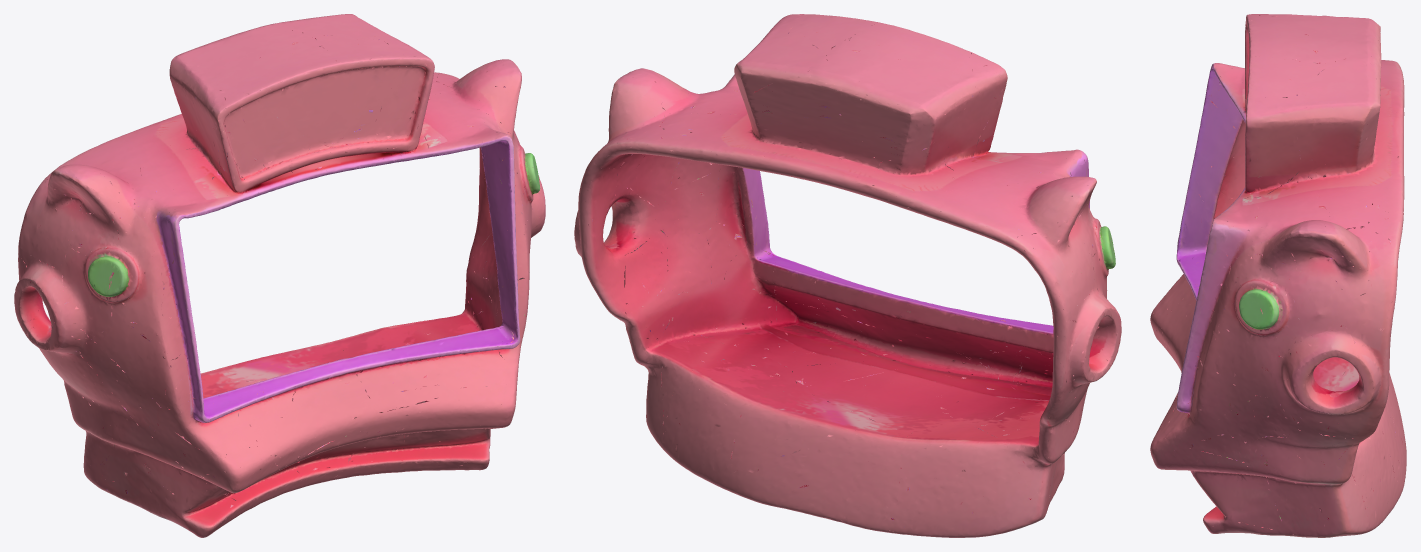
Rendered from slotmachine.glb.
3 renders of one model, left to right at view 1: azimuth 30°, elevation 25°; view 2: azimuth 150°, elevation 25°; view 3: azimuth 270°, elevation 25°, orthographic. The views are drawn at different scales.
Parts seen in each view (by area): view 1: origin, Mesh_0_cell.087, Mesh_0_cell.039, Mesh_0_cell.053, Mesh_0_cell.055, Mesh_0_cell.011, Mesh_0_cell.051, Mesh_0_cell.018, Mesh_0_cell.016, Mesh_0_cell.077, Mesh_0_cell.065, Mesh_0_cell.052 (+38 smaller); view 2: origin, Mesh_0_cell.069, Mesh_0_cell.002, Mesh_0_cell.086, Mesh_0_cell.056, Mesh_0_cell.074, Mesh_0_cell.057, Mesh_0_cell.049, Mesh_0_cell.065, Mesh_0_cell.082, Mesh_0_cell.027, Mesh_0_cell.004 (+32 smaller); view 3: origin, Mesh_0_cell.001, Mesh_0_cell.053, Mesh_0_cell.050, Mesh_0_cell.055, Mesh_0_cell.018, Mesh_0_cell.031, Mesh_0_cell.024, Mesh_0_cell.010, Mesh_0_cell.082, Mesh_0_cell.091, Mesh_0_cell.056 (+37 smaller).
Boxes of the visible parts, left/top/right/bottom form: origin: left=14, top=14, right=545, bottom=537; Mesh_0_cell.087: left=233, top=29, right=378, bottom=147; Mesh_0_cell.039: left=289, top=359, right=371, bottom=460; Mesh_0_cell.053: left=376, top=40, right=433, bottom=162; Mesh_0_cell.055: left=311, top=34, right=406, bottom=121; Mesh_0_cell.011: left=94, top=324, right=170, bottom=408; Mesh_0_cell.051: left=61, top=246, right=112, bottom=337; Mesh_0_cell.018: left=425, top=110, right=512, bottom=165; Mesh_0_cell.016: left=228, top=87, right=310, bottom=180; Mesh_0_cell.077: left=79, top=338, right=162, bottom=434; Mesh_0_cell.065: left=14, top=252, right=83, bottom=359; Mesh_0_cell.052: left=110, top=252, right=163, bottom=324; origin: left=574, top=14, right=1121, bottom=537; Mesh_0_cell.069: left=896, top=424, right=1048, bottom=537; Mesh_0_cell.002: left=821, top=63, right=975, bottom=161; Mesh_0_cell.086: left=725, top=428, right=912, bottom=532; Mesh_0_cell.056: left=663, top=354, right=796, bottom=486; Mesh_0_cell.074: left=800, top=97, right=878, bottom=192; Mesh_0_cell.057: left=859, top=129, right=994, bottom=238; Mesh_0_cell.049: left=792, top=311, right=903, bottom=365; Mesh_0_cell.065: left=1047, top=319, right=1121, bottom=418; Mesh_0_cell.082: left=715, top=67, right=827, bottom=177; Mesh_0_cell.027: left=971, top=411, right=1075, bottom=492; Mesh_0_cell.004: left=899, top=329, right=997, bottom=405; origin: left=1150, top=14, right=1406, bottom=537; Mesh_0_cell.001: left=1295, top=56, right=1380, bottom=171; Mesh_0_cell.053: left=1239, top=97, right=1299, bottom=198; Mesh_0_cell.050: left=1216, top=326, right=1285, bottom=396; Mesh_0_cell.055: left=1247, top=56, right=1329, bottom=97; Mesh_0_cell.018: left=1210, top=197, right=1283, bottom=257; Mesh_0_cell.031: left=1176, top=445, right=1283, bottom=531; Mesh_0_cell.024: left=1347, top=284, right=1395, bottom=375; Mesh_0_cell.010: left=1339, top=373, right=1389, bottom=438; Mesh_0_cell.082: left=1308, top=55, right=1404, bottom=187; Mesh_0_cell.091: left=1323, top=227, right=1398, bottom=297; Mesh_0_cell.056: left=1358, top=426, right=1395, bottom=531.
Size of the model in its own units: 1.9 by 1.55 by 0.8592.
Materials: 1 (1 with a texture image).
